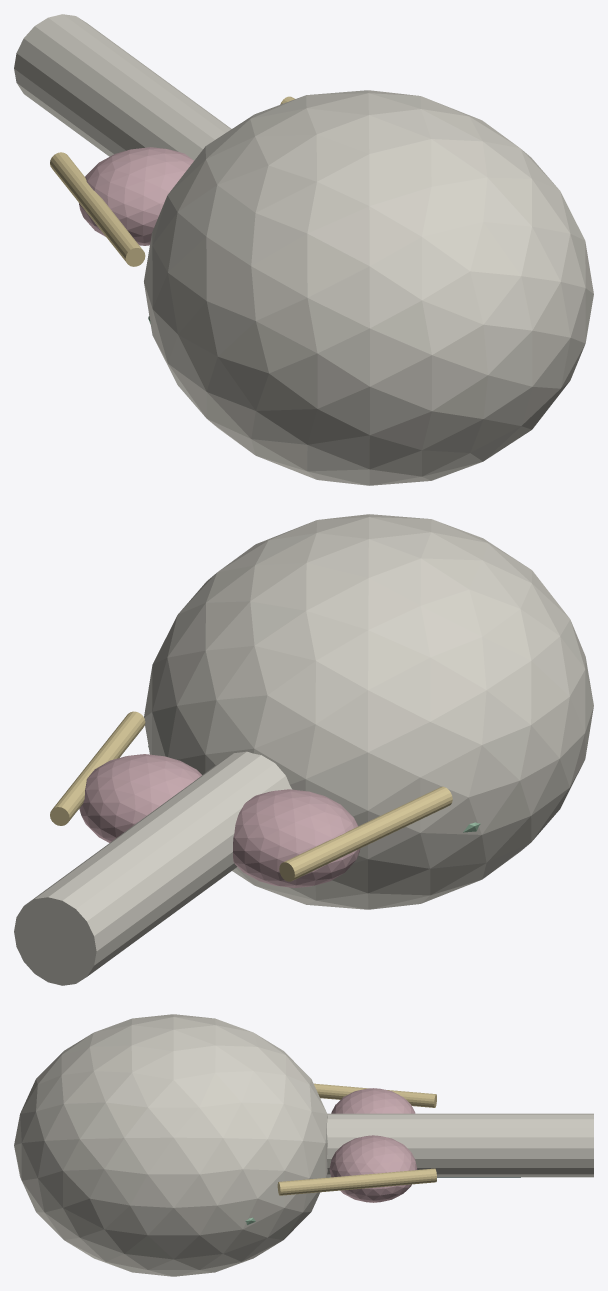
File: head-neck-g3-medium.glb
3 renders of one model, top to bottom at view 1: azimuth 30°, elevation 25°; view 2: azimuth 150°, elevation 25°; view 3: azimuth 270°, elevation 25°, orthographic. The views are drawn at different scales.
Parts seen in each view (by area): view 1: skull, cervical_spine_proxy, thyroid_left, left_neck_nerve_proxy; view 2: skull, cervical_spine_proxy, thyroid_left, thyroid_right, left_neck_nerve_proxy, right_neck_nerve_proxy; view 3: skull, cervical_spine_proxy, thyroid_right, right_neck_nerve_proxy, thyroid_left, left_neck_nerve_proxy.
Boxes of the visible parts, x1,y1,x2,y2 form: skull: [144, 90, 593, 485]; cervical_spine_proxy: [14, 14, 231, 160]; thyroid_left: [79, 147, 193, 245]; left_neck_nerve_proxy: [50, 152, 145, 266]; skull: [144, 514, 593, 909]; cervical_spine_proxy: [14, 751, 292, 985]; thyroid_left: [233, 789, 360, 887]; thyroid_right: [79, 754, 201, 842]; left_neck_nerve_proxy: [279, 786, 452, 881]; right_neck_nerve_proxy: [50, 711, 145, 825]; skull: [14, 1014, 327, 1276]; cervical_spine_proxy: [327, 1113, 593, 1177]; thyroid_right: [329, 1135, 417, 1202]; right_neck_nerve_proxy: [277, 1168, 436, 1195]; thyroid_left: [331, 1088, 415, 1113]; left_neck_nerve_proxy: [314, 1083, 436, 1107].
Size of the model in its own units: 1.48 by 1.28 by 2.9.
